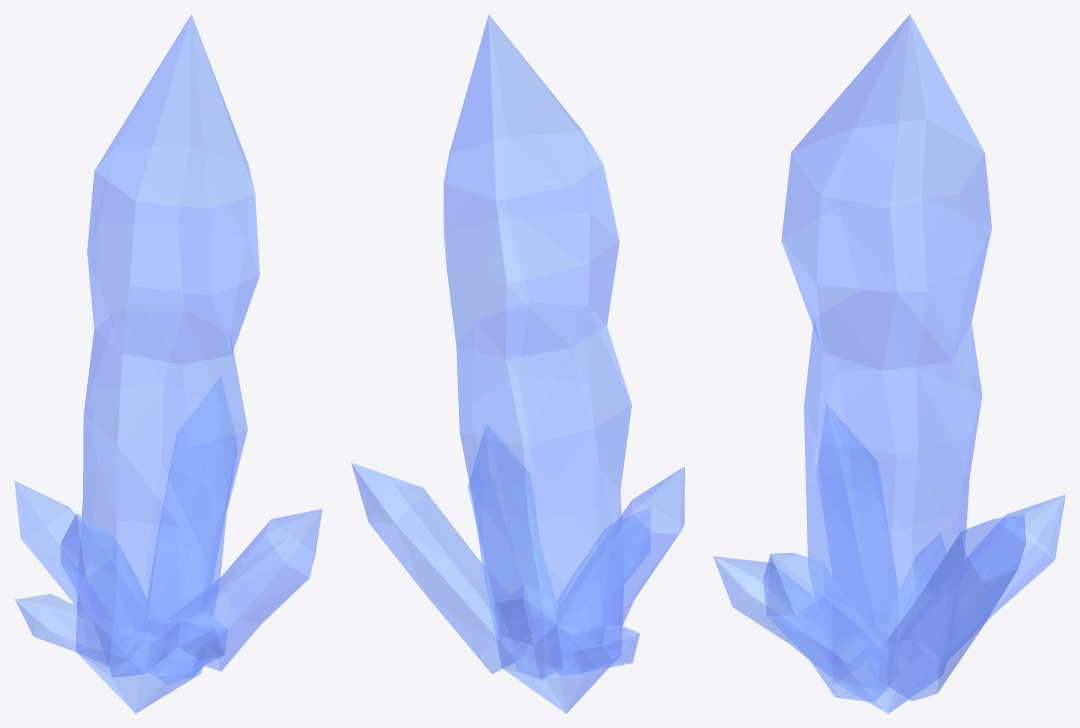
The model's file is gem.glb.
3 views of the same model, side by side, from view 1: azimuth 30°, elevation 25°; view 2: azimuth 150°, elevation 25°; view 3: azimuth 270°, elevation 25° (orthographic). The views are drawn at different scales.
Parts seen in each view (by area): view 1: Crystal_Main, Crystal_Small0, Crystal_Small4, Crystal_Small2, Crystal_Small1, Crystal_Small3, Crystal_Small5; view 2: Crystal_Main, Crystal_Small0, Crystal_Small2, Crystal_Small4, Crystal_Small1, Crystal_Small5, Crystal_Small3; view 3: Crystal_Main, Crystal_Small0, Crystal_Small2, Crystal_Small4, Crystal_Small1, Crystal_Small3, Crystal_Small5.
Boxes of the visible parts, bbox=[...] form: Crystal_Main: bbox=[76, 14, 259, 713]; Crystal_Small0: bbox=[147, 377, 236, 634]; Crystal_Small4: bbox=[169, 509, 322, 671]; Crystal_Small2: bbox=[60, 513, 168, 677]; Crystal_Small1: bbox=[14, 481, 85, 609]; Crystal_Small3: bbox=[146, 613, 227, 683]; Crystal_Small5: bbox=[15, 594, 135, 665]; Crystal_Main: bbox=[443, 14, 631, 713]; Crystal_Small0: bbox=[351, 462, 514, 673]; Crystal_Small2: bbox=[549, 466, 684, 665]; Crystal_Small4: bbox=[468, 424, 557, 610]; Crystal_Small1: bbox=[496, 584, 562, 680]; Crystal_Small5: bbox=[547, 624, 639, 675]; Crystal_Small3: bbox=[557, 507, 650, 606]; Crystal_Main: bbox=[781, 14, 991, 713]; Crystal_Small0: bbox=[878, 514, 1026, 701]; Crystal_Small2: bbox=[816, 404, 903, 636]; Crystal_Small4: bbox=[763, 552, 900, 702]; Crystal_Small1: bbox=[947, 494, 1065, 660]; Crystal_Small3: bbox=[713, 556, 831, 677]; Crystal_Small5: bbox=[885, 533, 946, 636].
Bounding box in the file's own units: 1.35 × 3.58 × 1.56.
